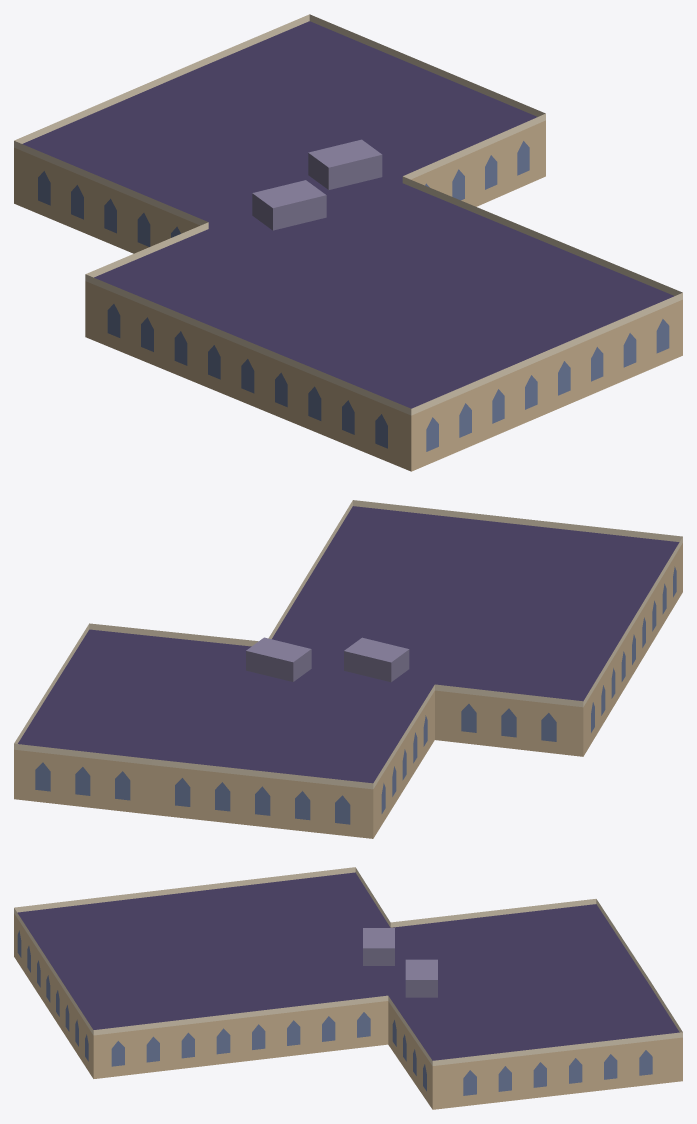
File: b-075-power-plant-day.glb
The picture shows the model from 3 angles, top to bottom: view 1: azimuth 30°, elevation 25°; view 2: azimuth 150°, elevation 25°; view 3: azimuth 270°, elevation 25°; orthographic projection. The views are drawn at different scales.
Visible parts, largest first — view 1: campus/b-075-power-plant-day-0; view 2: campus/b-075-power-plant-day-0; view 3: campus/b-075-power-plant-day-0.
Part boxes in pixels (x1,y1,x2,y2): campus/b-075-power-plant-day-0: (14, 14, 682, 471); campus/b-075-power-plant-day-0: (14, 500, 682, 838); campus/b-075-power-plant-day-0: (14, 867, 682, 1109).
Bounding box in the file's own units: 42.8 × 6.3 × 62.45.
